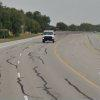Car: (35, 24, 58, 41)
